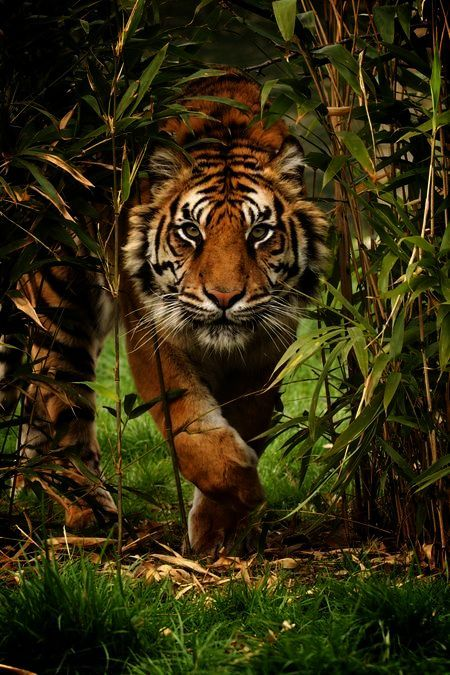Tigrew: (88, 59, 377, 551)
